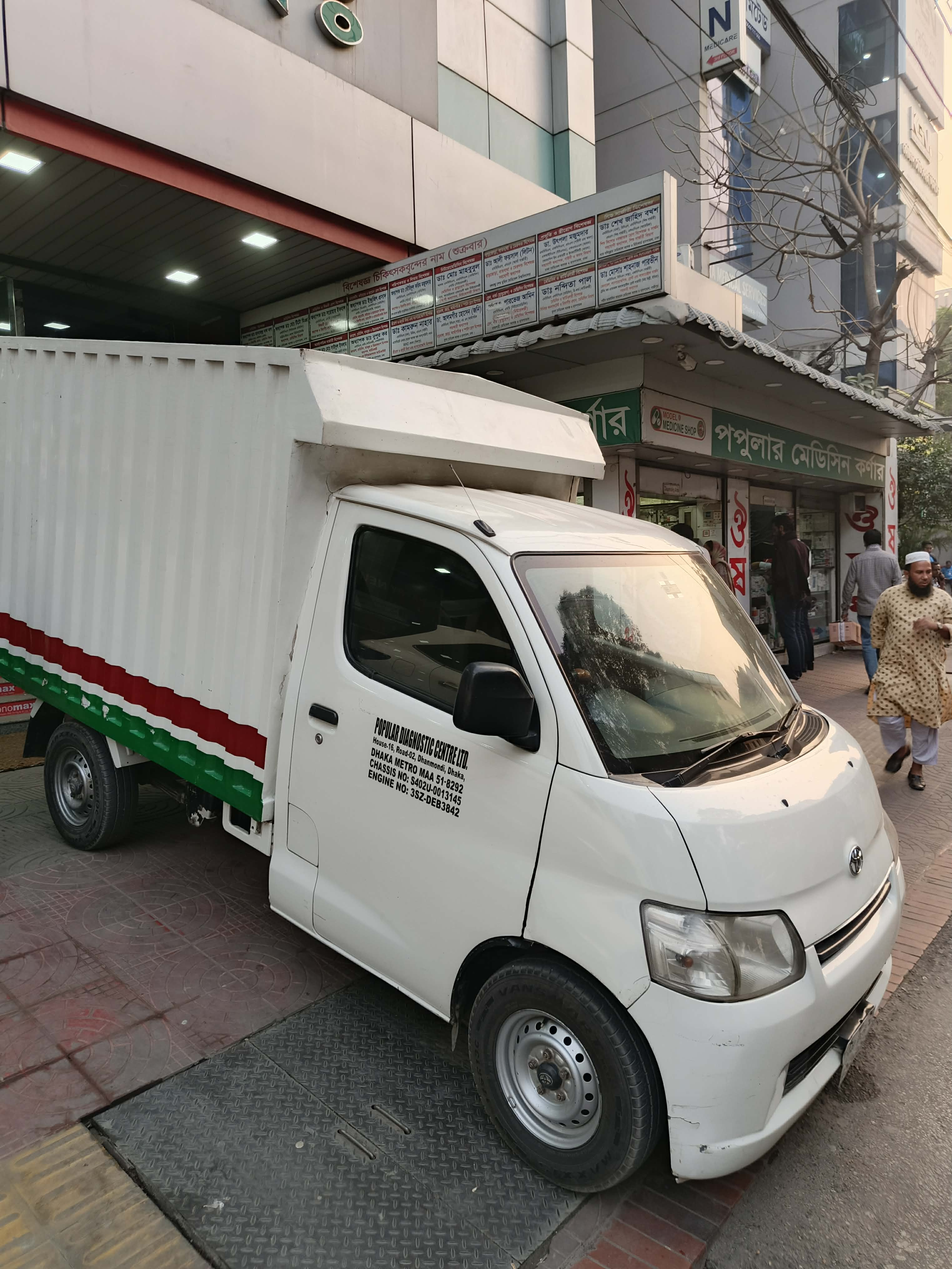Pickup: (0, 254, 935, 1197)
